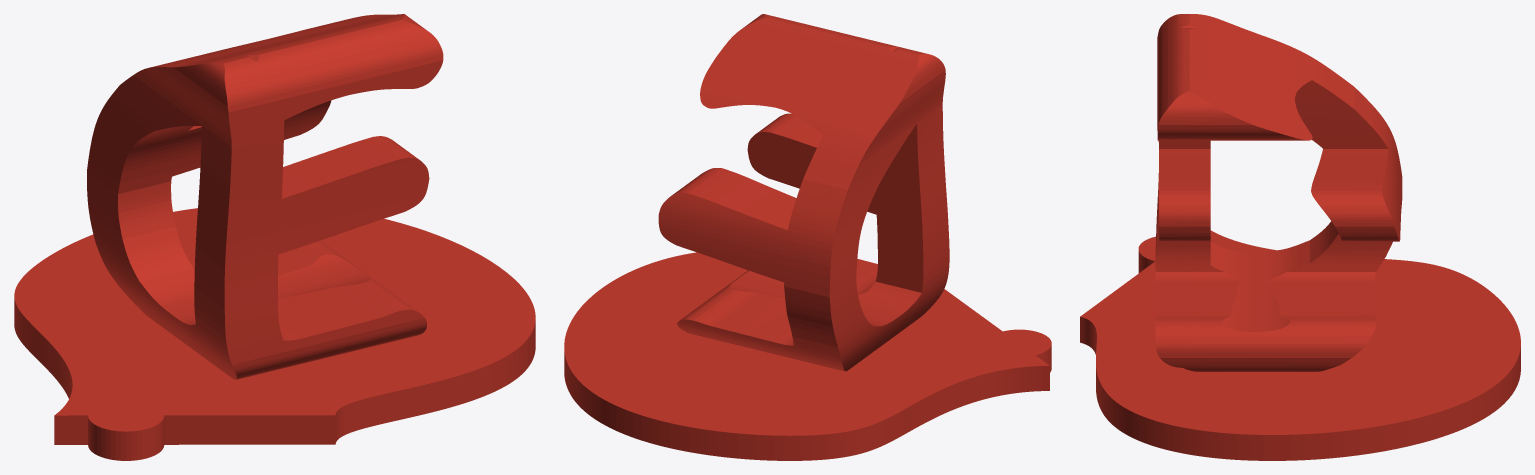
The picture shows the model from 3 angles, left to right: view 1: azimuth 30°, elevation 25°; view 2: azimuth 150°, elevation 25°; view 3: azimuth 270°, elevation 25°; orthographic projection. The views are drawn at different scales.
Size of the model in its own units: 34.57 by 23.66 by 30.79.
